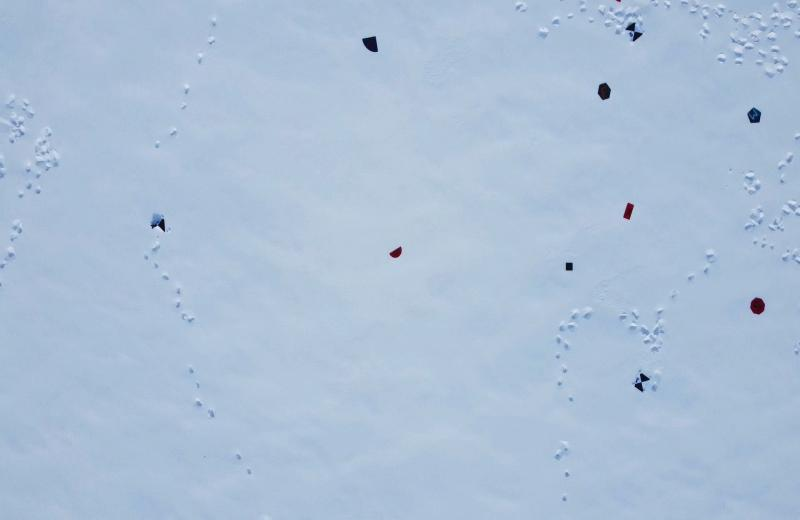Hexagon: (597, 82, 613, 102)
Octagon: (734, 319, 750, 338)
Pentagon: (747, 107, 762, 124)
Quarter Circle: (362, 34, 378, 55)
Rectangle: (611, 218, 625, 237)
Semi Circle: (377, 249, 391, 262)
Square: (552, 274, 560, 284)
